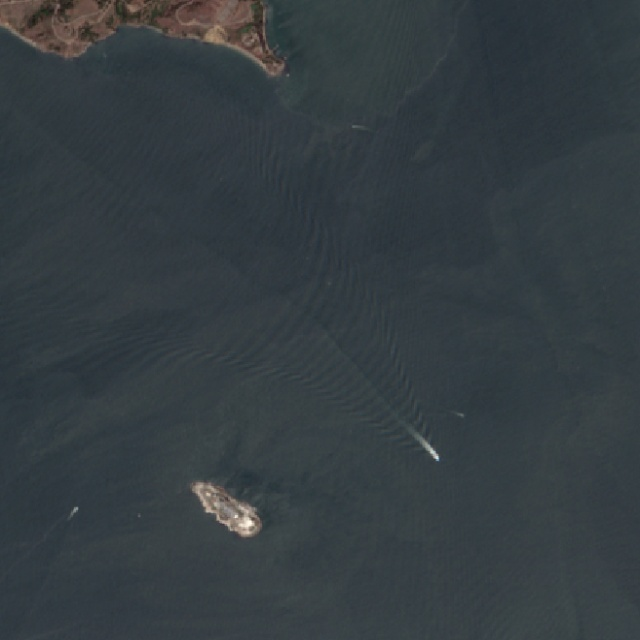wake: (259, 270, 480, 495)
